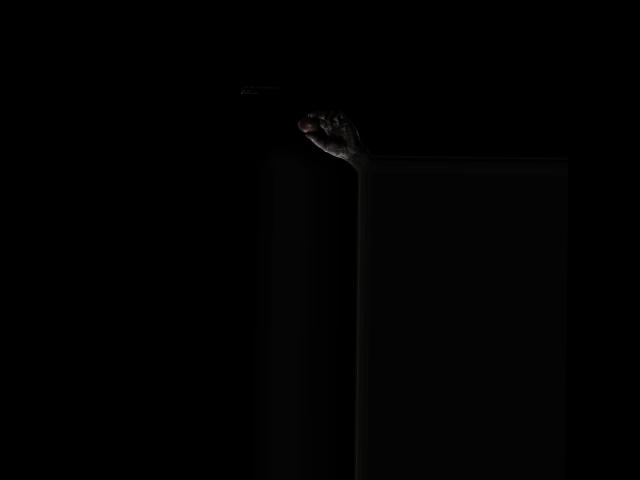egg: (298, 116, 321, 133)
